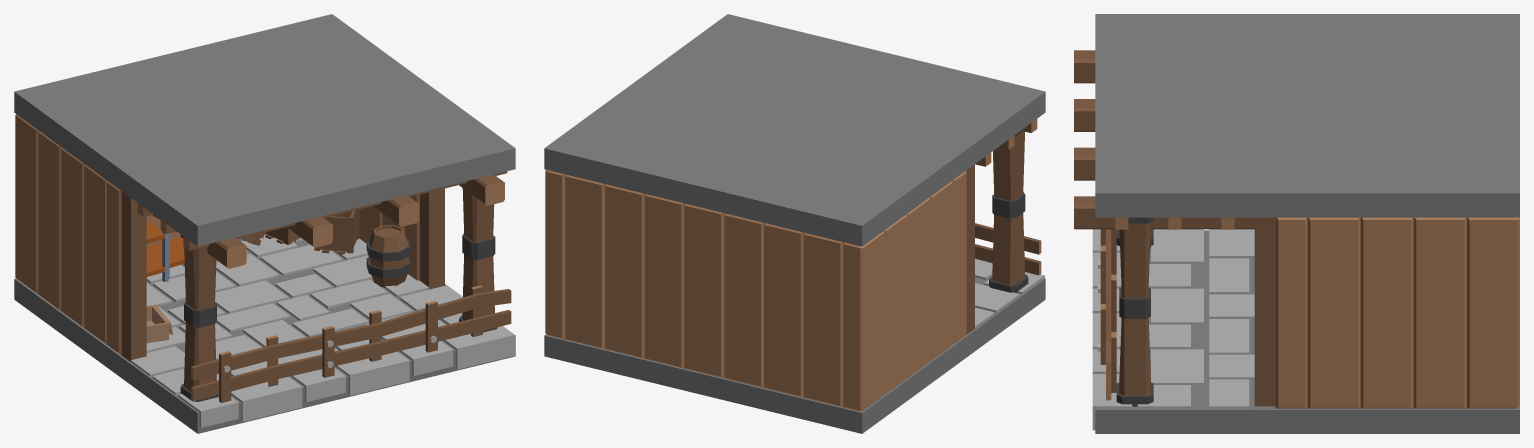
File: ResourceStorage_Lvl_02_Straight.fbx
The picture shows the model from 3 angles, left to right: view 1: azimuth 30°, elevation 25°; view 2: azimuth 150°, elevation 25°; view 3: azimuth 270°, elevation 25°; orthographic projection. The views are drawn at different scales.
Visible parts, largest first — view 1: ResourceStorage_Lvl_02_Straight; view 2: ResourceStorage_Lvl_02_Straight; view 3: ResourceStorage_Lvl_02_Straight.
Part boxes in pixels (x1,y1,x2,y2): ResourceStorage_Lvl_02_Straight: [14, 14, 515, 433]; ResourceStorage_Lvl_02_Straight: [544, 14, 1045, 433]; ResourceStorage_Lvl_02_Straight: [1074, 14, 1519, 433].
Size of the model in its own units: 8 by 5 by 8.4.
